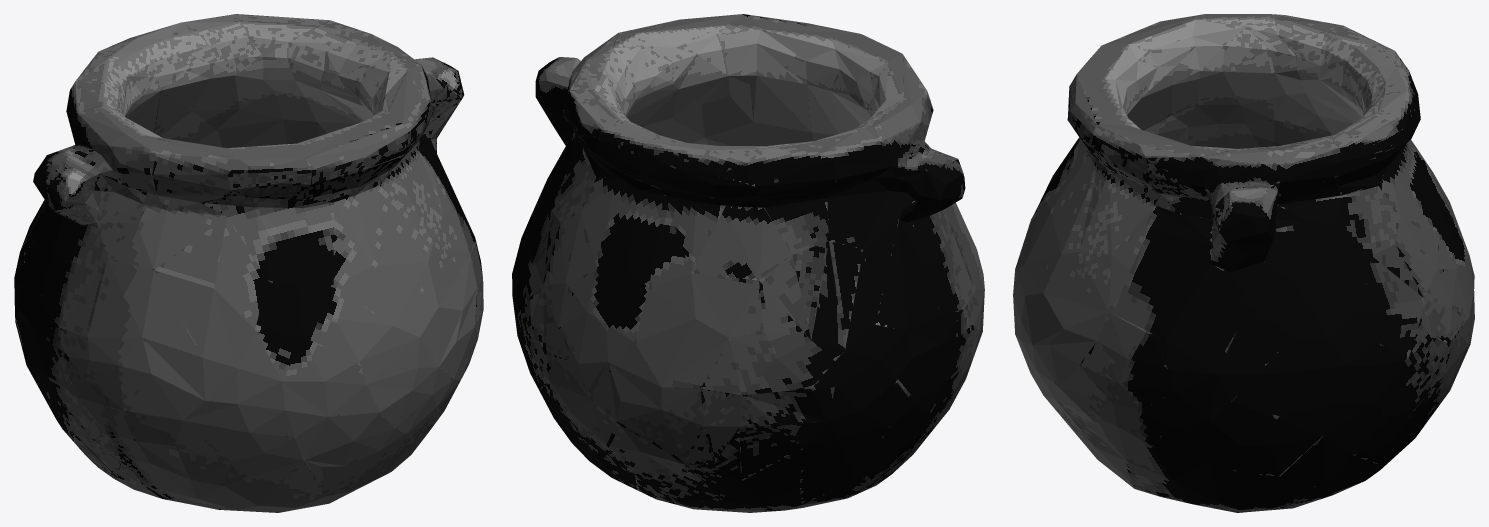
The picture shows the model from 3 angles, left to right: view 1: azimuth 30°, elevation 25°; view 2: azimuth 150°, elevation 25°; view 3: azimuth 270°, elevation 25°; orthographic projection.
Parts seen in each view (by area): view 1: OBJ12f; view 2: OBJ12f; view 3: OBJ12f.
Boxes of the visible parts, x1,y1,x2,y2 form: OBJ12f: (14,14,483,512); OBJ12f: (512,14,984,512); OBJ12f: (1013,14,1474,512).
Size of the model in its own units: 0.3394 by 0.3017 by 0.3307.
1 material, 1 textured.
